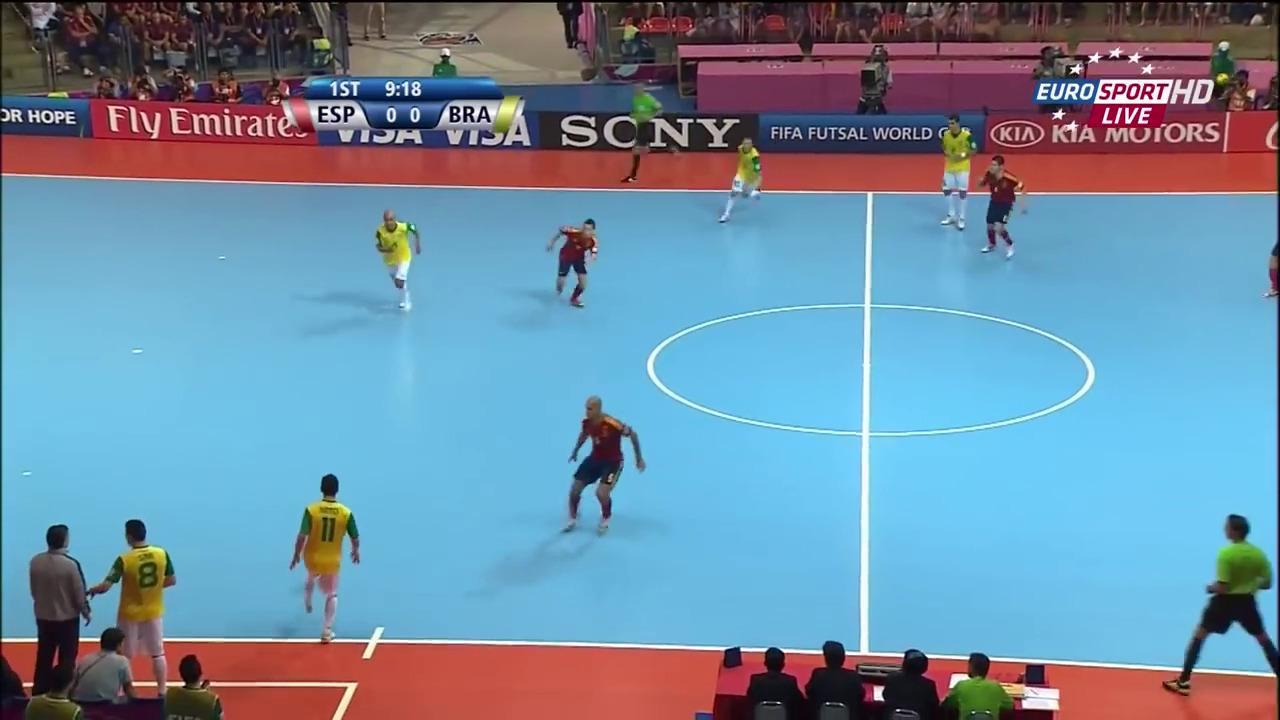person: (288, 470, 367, 651), (98, 513, 178, 683), (562, 394, 646, 542), (540, 208, 600, 311), (977, 153, 1030, 267), (933, 117, 979, 238), (369, 211, 422, 315), (716, 131, 764, 224)
